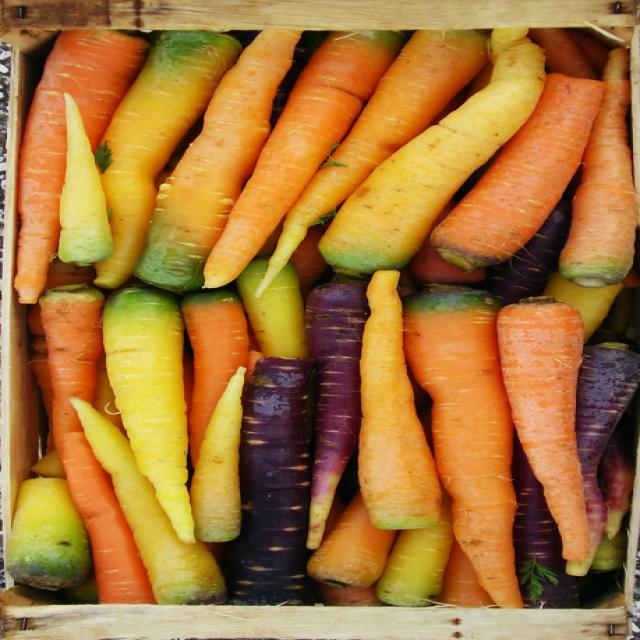Carrot: (496, 300, 599, 570)
